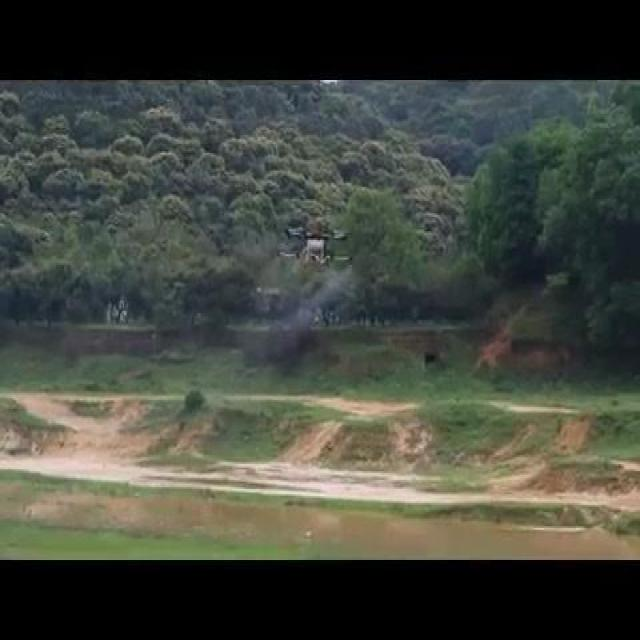drone: (277, 223, 353, 273)
